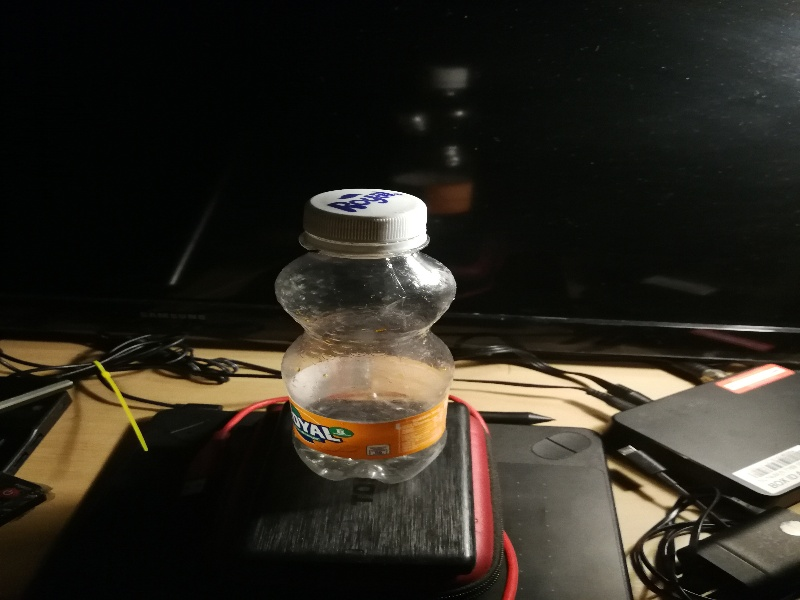PET #1: (274, 183, 455, 484)
